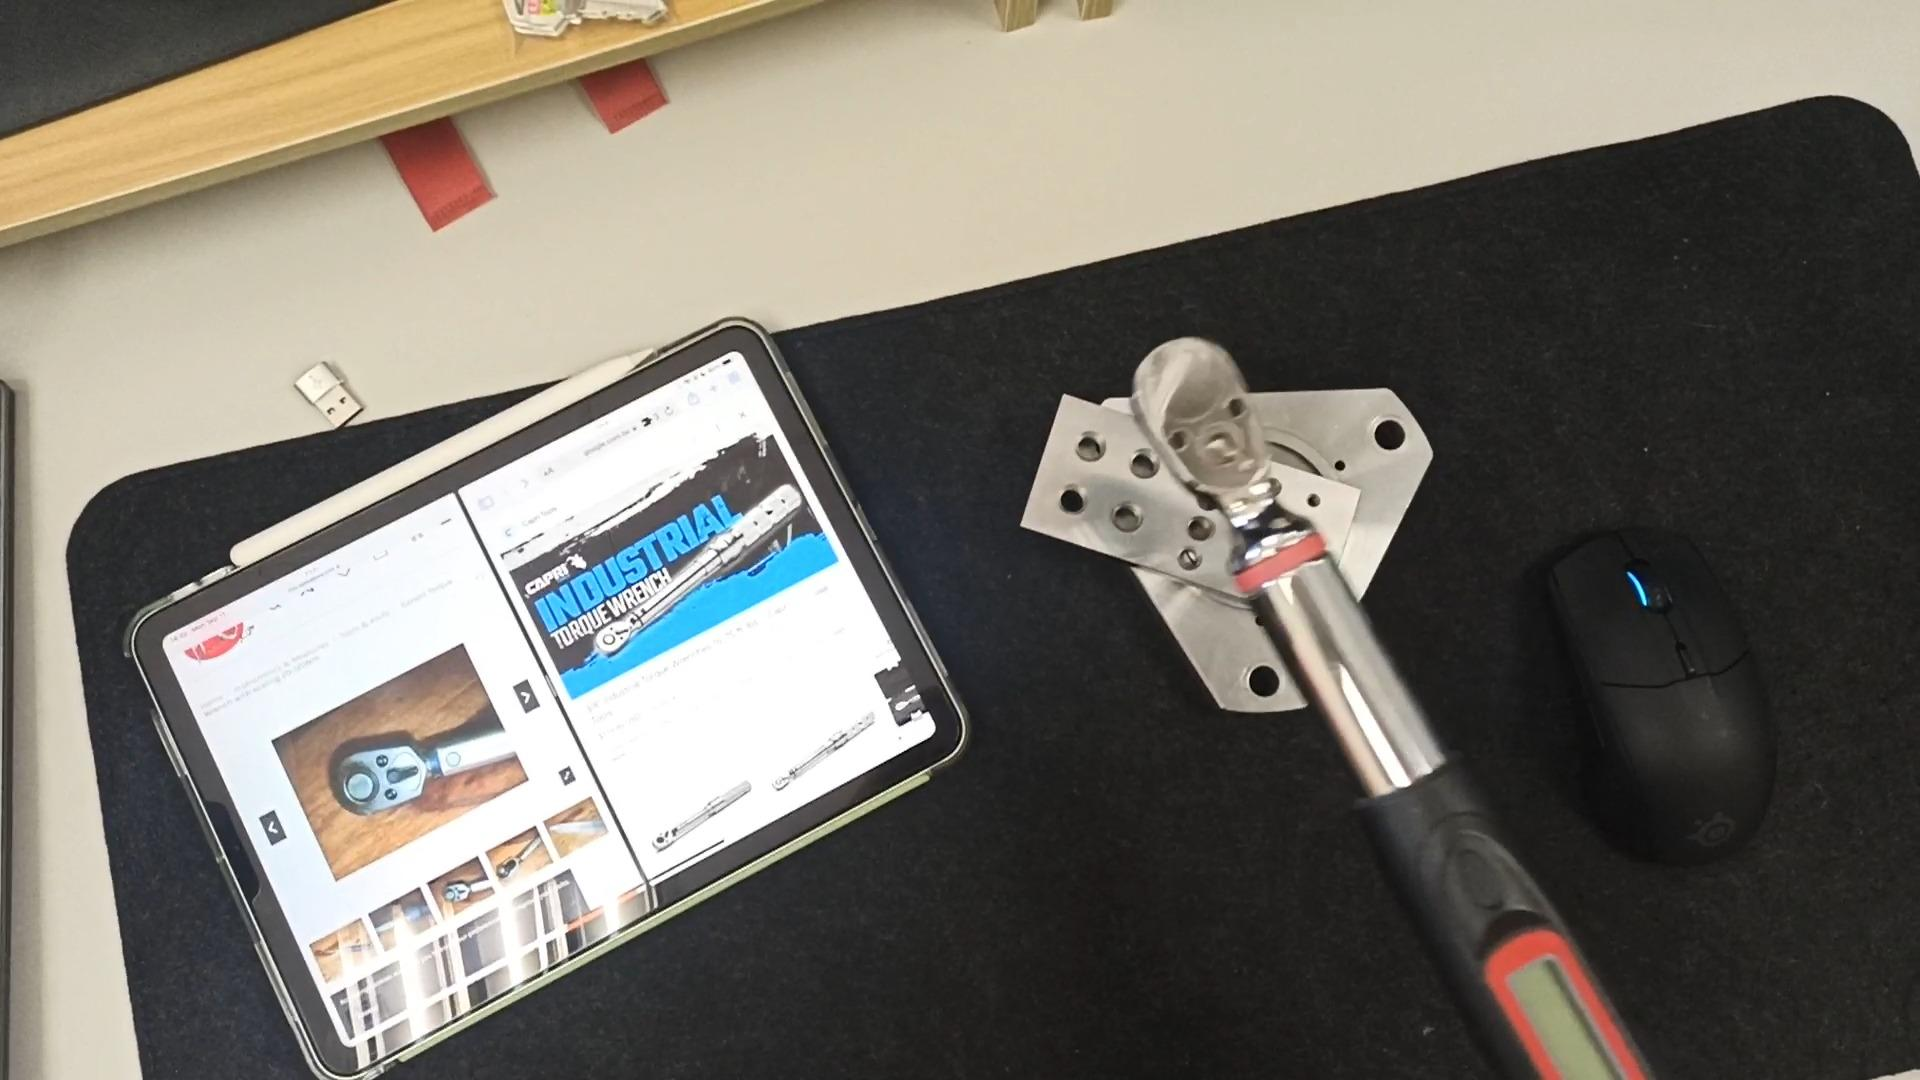Tool: (1135, 335, 1291, 555), (332, 737, 430, 818), (593, 615, 630, 657)
hole: (1357, 414, 1422, 458), (1096, 500, 1156, 538), (1175, 510, 1236, 546), (1063, 427, 1121, 464), (1244, 658, 1287, 703), (1122, 450, 1171, 484), (1044, 485, 1093, 518), (1168, 547, 1218, 576), (1303, 481, 1327, 517)
